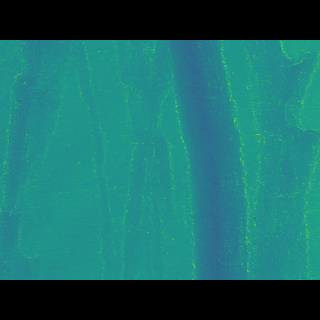Loch: (123, 69, 252, 250), (243, 70, 320, 249), (0, 70, 65, 237), (70, 71, 115, 248)
